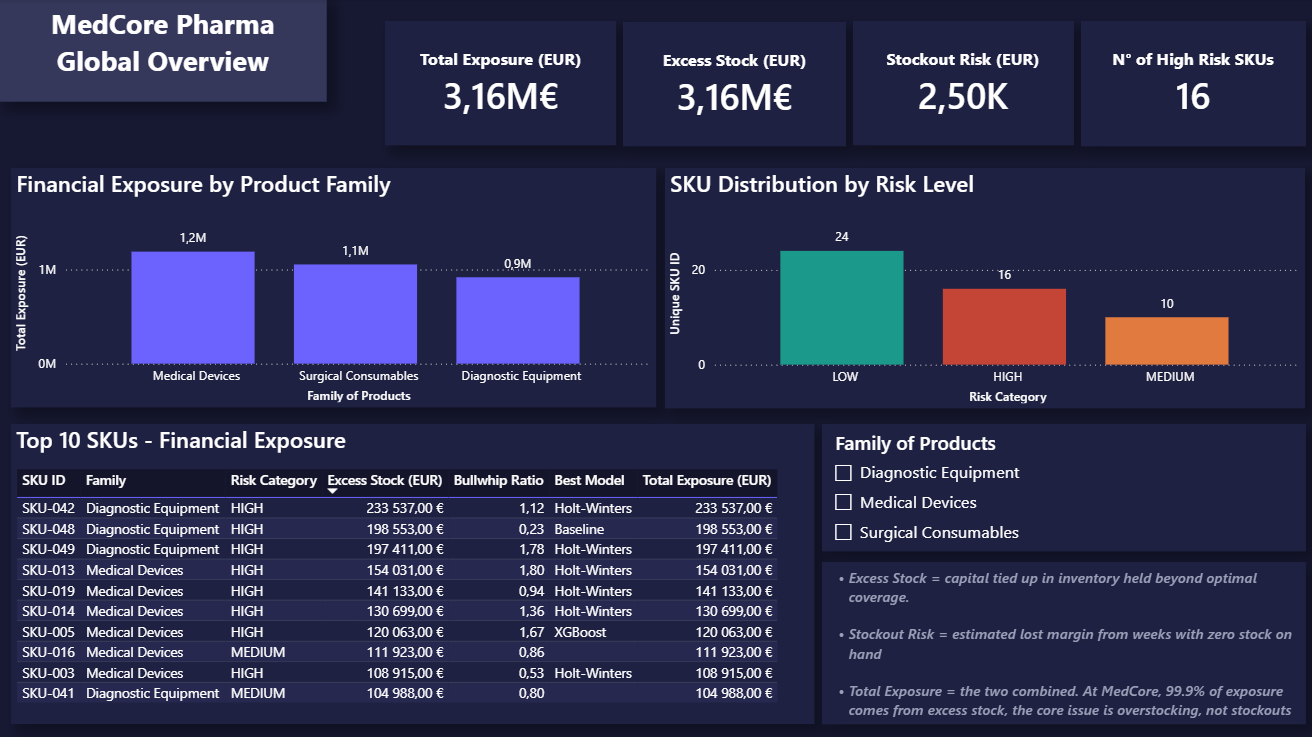

The dashboard page shown, as its layout file describes it:
{"tool":"powerbi","page":{"name":"Global Overview","canvas":[1280,720],"ordinal":0},"visuals":[{"type":"cardVisual","fields":{"Data":["Sum(financial_impact.total_exposure_eur)"]},"box":[375.5,21.4,225,120.6],"z":0},{"type":"cardVisual","fields":{"Data":["Sum(financial_impact.excess_stock_eur)"]},"box":[607,22.4,217,121],"z":1000},{"type":"cardVisual","fields":{"Data":["Sum(financial_impact.stockout_risk_eur)"]},"box":[831.6,21.4,215,120.6],"z":2000},{"type":"cardVisual","fields":{"Data":["financial_impact.SKUs high risk"]},"box":[1053.4,21.4,218.8,121.6],"z":3000},{"type":"clusteredColumnChart","title":"Financial Exposure by Product Family","fields":{"Category":["financial_summary_by_family.family"],"Y":["Sum(financial_summary_by_family.total_exposure_eur)"]},"box":[11.7,164.4,628.3,233.4],"z":4000},{"type":"clusteredColumnChart","title":"SKU Distribution by Risk Level","fields":{"Category":["financial_impact.risk_category"],"Y":["CountNonNull(financial_impact.sku_id)"]},"box":[648.8,164.4,623.5,234.4],"z":5000},{"type":"textbox","box":[0,0,319,100.2],"z":6000},{"type":"tableEx","title":"Top 10 SKUs - Financial Exposure","fields":{"Values":["financial_impact.sku_id","financial_impact.family","financial_impact.risk_category","Sum(financial_impact.excess_stock_eur)","Sum(financial_impact.bullwhip_ratio)","financial_impact.best_model","Sum(financial_impact.total_exposure_eur)"]},"box":[11.7,413.4,782,291.8],"z":7000},{"type":"slicer","fields":{"Values":["financial_impact.family"]},"box":[801.5,413.4,470.8,123.5],"z":8000},{"type":"textbox","box":[801.5,547.6,470.8,157.6],"z":9000}]}

Visuals, with their boxes in screenshot pixels (x1, y1, x2, y2), scaled from the page's 1280x720 canvas onto the 1312x737 screenshot:
cardVisual - Sum(financial_impact.total_exposure_eur): <box>385,22,616,145</box>
cardVisual - Sum(financial_impact.excess_stock_eur): <box>622,23,845,147</box>
cardVisual - Sum(financial_impact.stockout_risk_eur): <box>852,22,1073,145</box>
cardVisual - financial_impact.SKUs high risk: <box>1080,22,1304,146</box>
"Financial Exposure by Product Family" clusteredColumnChart: <box>12,168,656,407</box>
"SKU Distribution by Risk Level" clusteredColumnChart: <box>665,168,1304,408</box>
textbox: <box>0,0,327,103</box>
"Top 10 SKUs - Financial Exposure" tableEx: <box>12,423,814,722</box>
slicer - financial_impact.family: <box>822,423,1304,550</box>
textbox: <box>822,561,1304,722</box>
